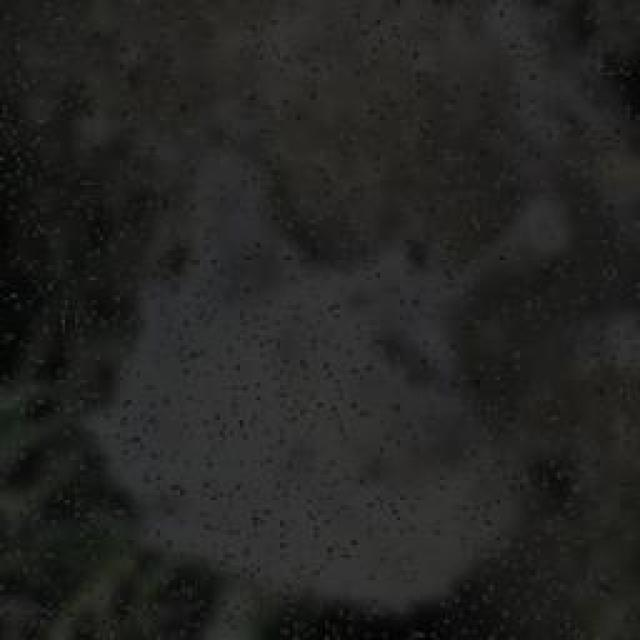Fox: (94, 152, 572, 603)
